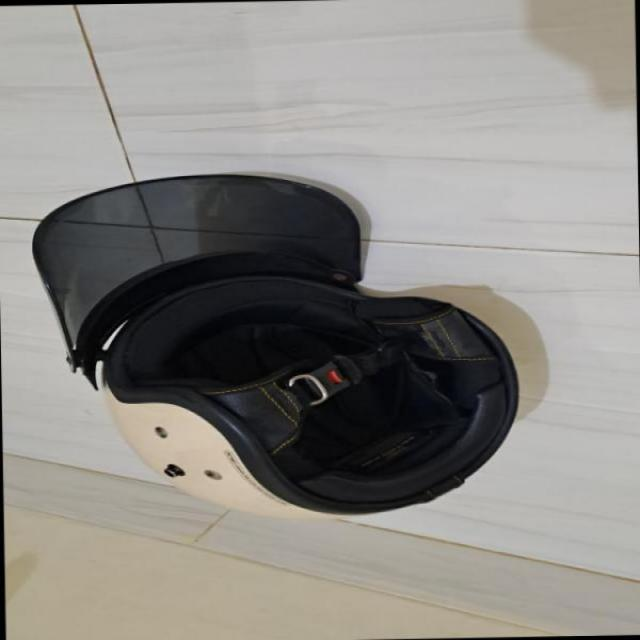Helmet: (32, 170, 518, 532)
